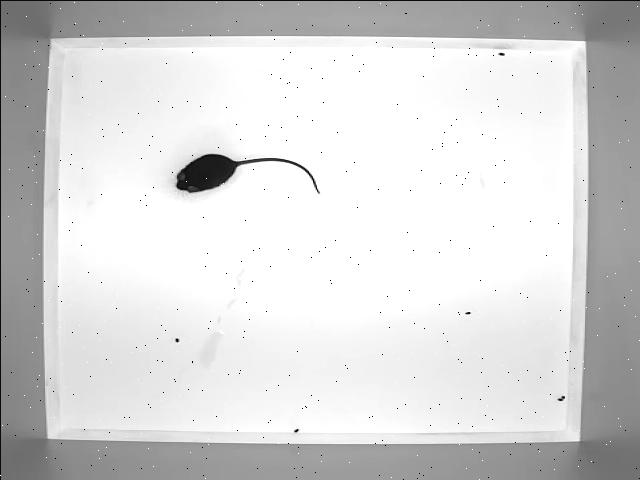Tikus: (168, 148, 322, 200)
